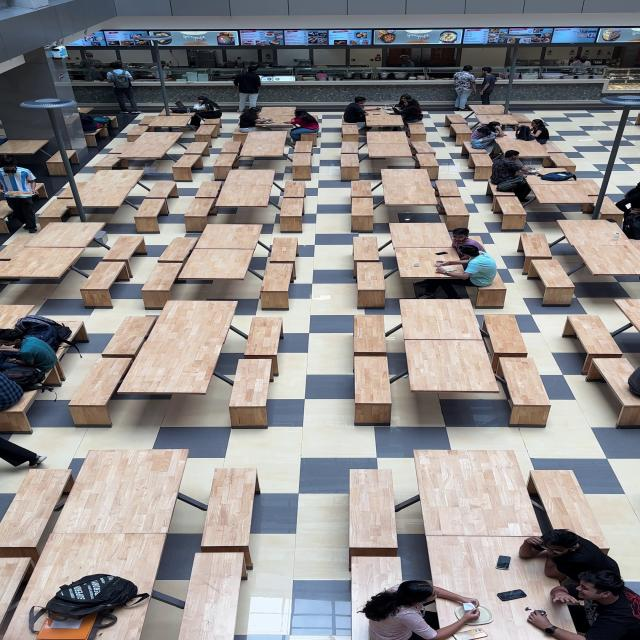Occupied: (517, 528, 621, 588), (447, 589, 568, 638), (414, 244, 498, 302), (549, 587, 640, 640), (0, 331, 61, 378), (488, 148, 542, 200), (350, 606, 406, 640), (443, 227, 489, 262), (183, 97, 226, 132), (282, 109, 322, 146), (469, 120, 507, 157), (340, 96, 376, 133), (389, 96, 424, 132), (236, 105, 273, 136), (0, 305, 36, 336), (610, 297, 640, 334), (520, 171, 556, 195), (526, 118, 552, 146)
Unoccupied: (1, 531, 174, 640), (417, 498, 558, 591), (47, 448, 195, 536), (411, 449, 539, 538), (114, 306, 239, 396), (0, 315, 82, 428), (527, 570, 640, 640), (525, 468, 615, 553), (198, 466, 262, 576), (173, 551, 248, 640), (0, 469, 71, 562), (541, 515, 627, 587), (1, 522, 77, 603), (404, 338, 504, 396), (128, 392, 224, 449), (351, 314, 395, 428), (64, 356, 135, 426), (346, 466, 399, 558), (494, 356, 553, 428), (585, 356, 640, 428), (562, 315, 626, 376), (70, 169, 148, 219), (0, 244, 91, 284), (400, 299, 488, 340), (226, 358, 275, 428), (480, 314, 532, 378), (101, 133, 185, 172), (168, 345, 238, 389), (566, 241, 640, 281), (212, 168, 280, 211), (175, 247, 258, 282), (520, 176, 602, 209), (376, 168, 440, 210), (552, 218, 638, 249), (241, 317, 285, 377), (236, 409, 280, 468), (100, 316, 160, 358), (527, 258, 579, 306), (80, 406, 123, 464), (345, 558, 407, 598), (20, 222, 108, 250), (395, 246, 465, 281), (77, 263, 130, 307), (492, 134, 557, 168), (363, 131, 418, 171), (180, 180, 224, 228), (138, 264, 185, 308), (234, 130, 293, 165), (191, 223, 266, 250), (0, 386, 43, 431), (110, 362, 149, 411), (257, 262, 296, 310), (515, 231, 554, 277), (353, 263, 388, 309), (488, 192, 530, 230), (351, 314, 388, 356), (386, 220, 448, 245), (471, 269, 510, 308), (252, 365, 287, 404), (154, 236, 202, 264), (140, 180, 178, 214), (584, 193, 627, 221), (539, 142, 579, 172), (169, 151, 207, 182), (38, 346, 67, 386), (362, 112, 406, 138), (221, 238, 278, 258), (140, 114, 197, 134), (436, 195, 473, 225), (35, 195, 76, 222), (348, 196, 377, 233), (464, 147, 496, 180), (175, 140, 212, 168), (278, 196, 306, 232), (350, 235, 384, 264), (0, 234, 36, 261), (230, 216, 274, 238), (470, 113, 523, 131), (0, 139, 51, 157), (44, 150, 78, 176), (412, 150, 441, 180), (210, 152, 240, 180), (289, 150, 315, 182), (337, 150, 362, 183), (254, 105, 298, 123), (57, 319, 89, 343), (88, 153, 126, 173), (461, 140, 492, 164), (432, 179, 466, 200), (282, 246, 306, 275), (193, 243, 213, 276), (450, 122, 474, 147), (405, 121, 431, 144), (349, 179, 376, 201), (192, 124, 219, 146), (124, 125, 155, 144), (280, 179, 308, 200), (287, 227, 314, 247), (466, 104, 509, 116), (339, 122, 362, 144), (290, 138, 318, 156), (218, 140, 248, 156), (444, 113, 471, 130), (0, 199, 17, 226), (511, 113, 535, 132), (58, 472, 77, 496), (458, 234, 484, 250), (199, 229, 221, 247), (296, 128, 320, 144), (229, 128, 251, 145), (28, 181, 48, 199), (94, 114, 119, 128), (135, 115, 161, 128), (82, 131, 100, 147), (94, 125, 110, 138), (79, 108, 93, 114)
